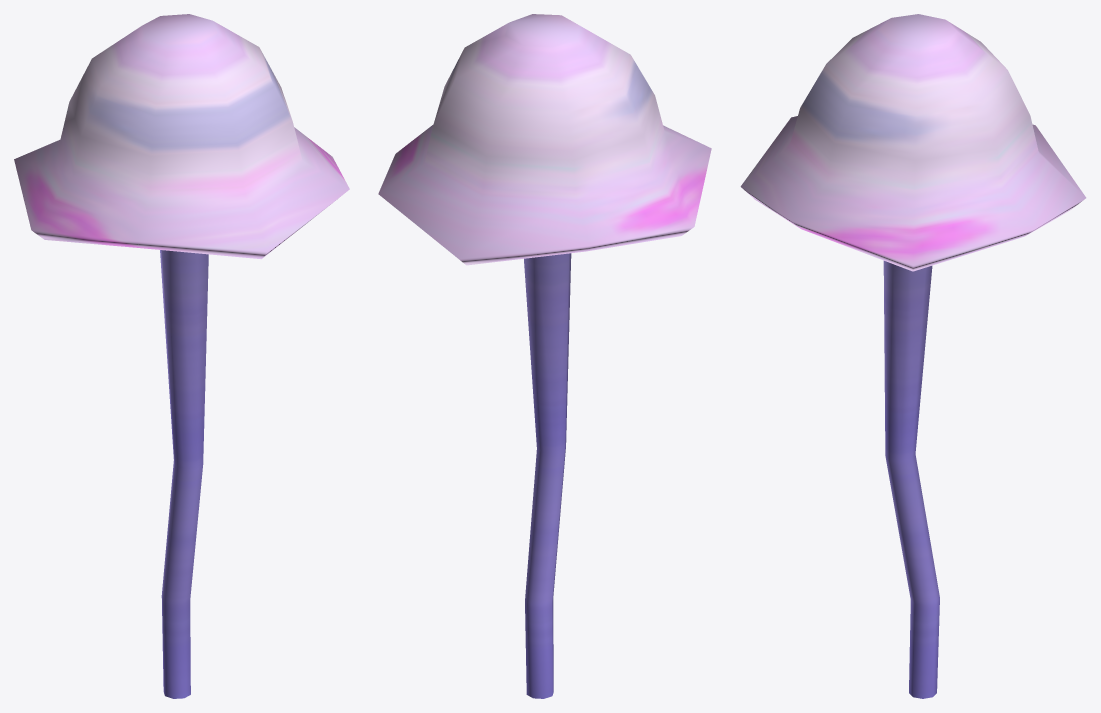
The model's file is media_seta02.fbx.
3 renders of one model, left to right at view 1: azimuth 30°, elevation 25°; view 2: azimuth 150°, elevation 25°; view 3: azimuth 270°, elevation 25°, orthographic.
Parts seen in each view (by area): view 1: SetaM02; view 2: SetaM02; view 3: SetaM02.
Boxes of the visible parts, bbox=[...] form: SetaM02: bbox=[14, 14, 349, 698]; SetaM02: bbox=[378, 14, 711, 698]; SetaM02: bbox=[740, 14, 1086, 698].
Size of the model in its own units: 3043 by 6439 by 3041.
Materials: 1 (1 with a texture image).
